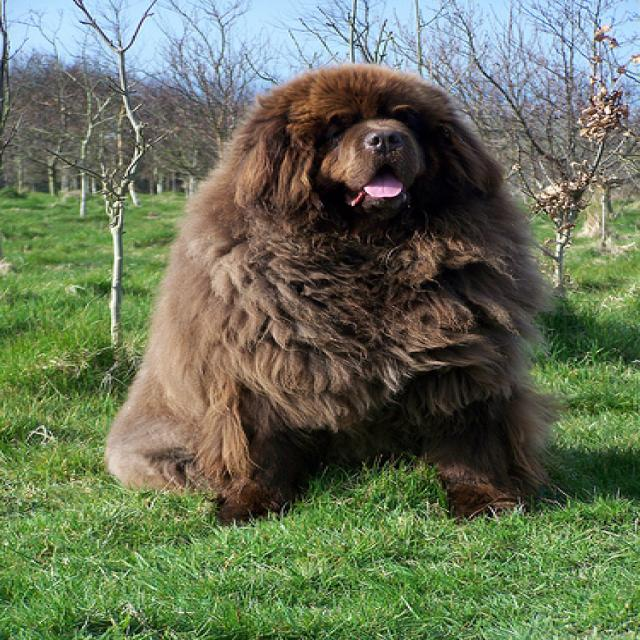dog-newfoundland: (87, 54, 560, 521)
